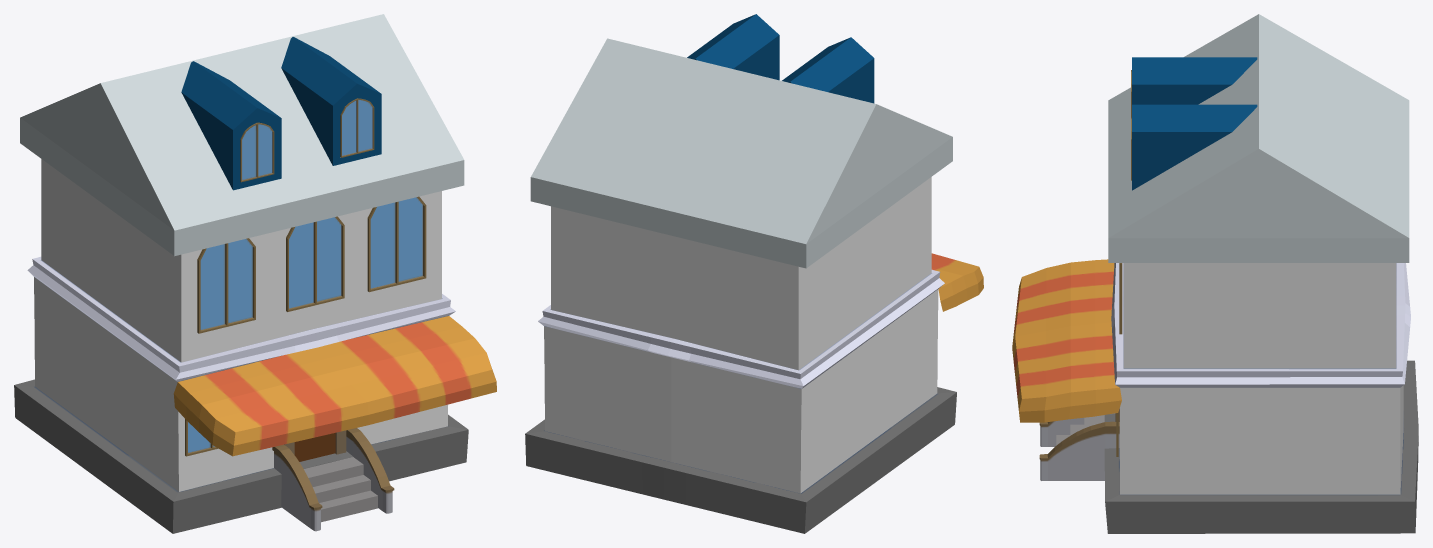
File: House 4.fbx
3 renders of one model, left to right at view 1: azimuth 30°, elevation 25°; view 2: azimuth 150°, elevation 25°; view 3: azimuth 270°, elevation 25°, orthographic. The views are drawn at different scales.
Visible parts, largest first — view 1: Houes 4; view 2: Houes 4; view 3: Houes 4.
Part boxes in pixels (box(x1,y1,x2,y2)): Houes 4: box(14, 14, 496, 533); Houes 4: box(525, 14, 983, 533); Houes 4: box(1012, 14, 1418, 533).
Size of the model in its own units: 4786 by 6075 by 5842.
Materials: 16 (15 with a texture image).
